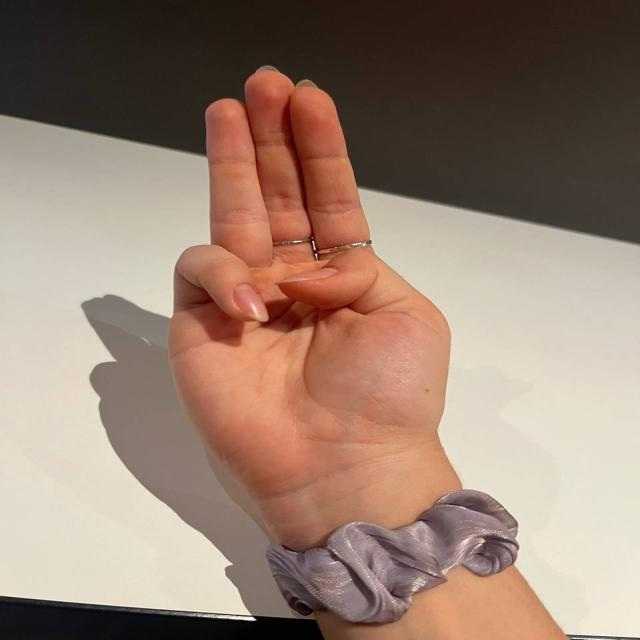sh: (138, 65, 446, 423)
